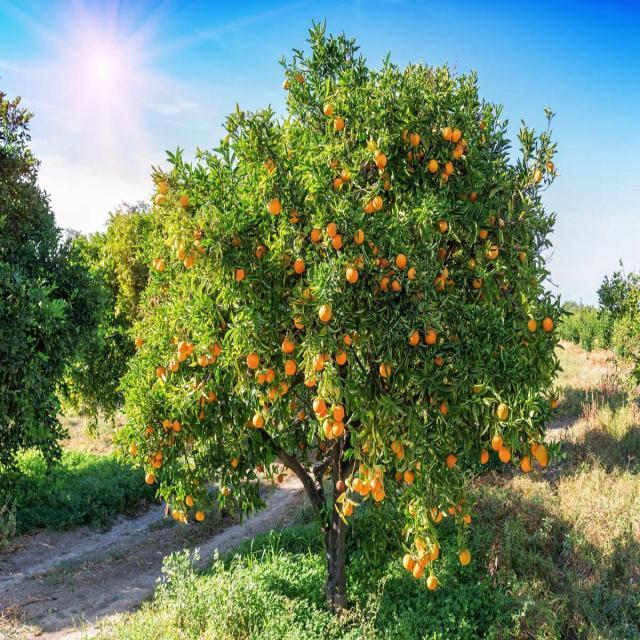Jeruk Sudah Matang: (318, 303, 333, 324), (345, 266, 359, 286), (246, 352, 262, 369), (498, 446, 512, 465), (312, 396, 326, 415), (269, 198, 282, 218), (458, 548, 472, 566), (491, 433, 503, 453), (427, 543, 439, 563), (498, 402, 510, 422), (310, 226, 324, 243), (283, 359, 297, 376), (520, 454, 533, 472), (335, 347, 347, 366), (207, 340, 221, 356), (282, 337, 294, 355), (425, 328, 437, 346), (434, 274, 446, 292), (376, 152, 388, 170), (446, 452, 458, 470), (293, 258, 305, 276), (332, 420, 344, 438), (372, 194, 383, 213), (333, 405, 345, 422), (288, 206, 300, 223), (312, 353, 324, 370), (326, 220, 337, 238), (402, 552, 413, 570), (535, 444, 546, 462), (395, 252, 407, 268), (542, 316, 554, 332), (430, 506, 442, 522), (322, 419, 333, 436), (417, 550, 428, 567), (379, 364, 392, 378), (339, 332, 352, 346), (528, 316, 538, 334), (333, 116, 345, 131), (341, 166, 352, 182), (256, 244, 267, 260), (391, 278, 402, 294), (408, 329, 418, 346), (353, 230, 365, 244), (252, 414, 264, 428), (352, 478, 363, 493), (371, 479, 382, 494), (332, 177, 343, 192), (437, 219, 448, 234), (404, 468, 414, 484), (488, 244, 498, 260), (472, 274, 482, 290), (380, 276, 390, 292), (264, 158, 274, 174), (451, 128, 461, 144), (168, 359, 180, 372), (231, 268, 244, 280), (408, 265, 417, 282), (444, 160, 454, 175), (198, 353, 208, 368), (442, 126, 452, 141), (480, 448, 488, 466), (413, 563, 422, 579), (194, 510, 206, 522), (478, 226, 488, 240), (184, 256, 194, 270), (426, 576, 436, 590), (410, 132, 420, 146), (430, 158, 438, 174), (392, 438, 400, 454), (172, 418, 181, 432), (177, 342, 187, 354), (186, 494, 196, 506), (176, 247, 185, 260), (323, 104, 333, 115), (336, 479, 344, 492)
